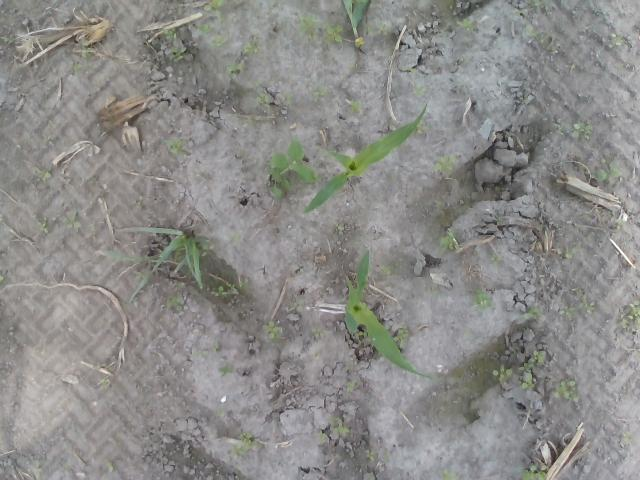Maize: (304, 106, 426, 214), (343, 249, 435, 380), (342, 0, 370, 52)
Weeds: (107, 226, 204, 308), (269, 134, 320, 200), (297, 14, 344, 46), (558, 286, 597, 320), (518, 350, 544, 390), (588, 157, 624, 183), (162, 27, 186, 64), (551, 376, 580, 403), (619, 296, 640, 332), (160, 136, 190, 160), (232, 431, 258, 458), (254, 78, 274, 112), (470, 286, 496, 312), (526, 27, 554, 51), (432, 152, 456, 179), (198, 0, 224, 24), (165, 282, 186, 311), (436, 228, 463, 250), (262, 319, 284, 346), (241, 32, 262, 57), (521, 302, 547, 322), (491, 362, 514, 384), (520, 463, 548, 480), (224, 62, 249, 80), (524, 0, 552, 16), (572, 119, 592, 141), (189, 20, 213, 38), (210, 282, 237, 298), (331, 414, 352, 434), (197, 239, 219, 258), (226, 270, 248, 288), (374, 21, 394, 40), (486, 250, 506, 268), (393, 325, 409, 346), (408, 78, 426, 96), (32, 215, 49, 234), (64, 211, 81, 230), (33, 166, 53, 182), (455, 16, 475, 32), (554, 247, 578, 260), (287, 298, 306, 314), (276, 12, 290, 32), (608, 213, 624, 230), (240, 113, 258, 128), (608, 32, 624, 48), (80, 46, 94, 64), (312, 84, 332, 96), (424, 284, 441, 297), (96, 377, 113, 390), (190, 348, 210, 359), (192, 166, 210, 178), (382, 262, 400, 274), (174, 0, 186, 18), (32, 462, 44, 480), (439, 469, 458, 480), (0, 32, 16, 45), (417, 111, 428, 129), (102, 457, 115, 472), (208, 36, 224, 48), (285, 94, 297, 110), (130, 196, 144, 209), (80, 174, 98, 184), (439, 4, 454, 16), (354, 36, 368, 48), (366, 448, 377, 463), (232, 232, 242, 248), (2, 71, 18, 81), (351, 98, 361, 114), (218, 366, 234, 376), (346, 63, 362, 73), (95, 361, 112, 370), (405, 64, 417, 76), (319, 430, 328, 446), (552, 122, 571, 129), (214, 406, 226, 417), (434, 199, 446, 210), (356, 327, 368, 338), (68, 63, 81, 73), (514, 8, 528, 17), (86, 230, 98, 240), (46, 120, 58, 130), (622, 430, 632, 442), (0, 274, 8, 288), (62, 463, 72, 474), (462, 56, 474, 65), (310, 351, 320, 361), (344, 30, 356, 38), (494, 184, 506, 192), (312, 328, 324, 336), (345, 382, 353, 394), (362, 23, 369, 36), (211, 343, 221, 352), (352, 463, 362, 471), (334, 222, 342, 232), (382, 454, 390, 464), (614, 64, 624, 72), (495, 216, 503, 225), (568, 64, 577, 72), (366, 473, 376, 480), (328, 149, 338, 154), (411, 140, 416, 144), (395, 157, 400, 161)
